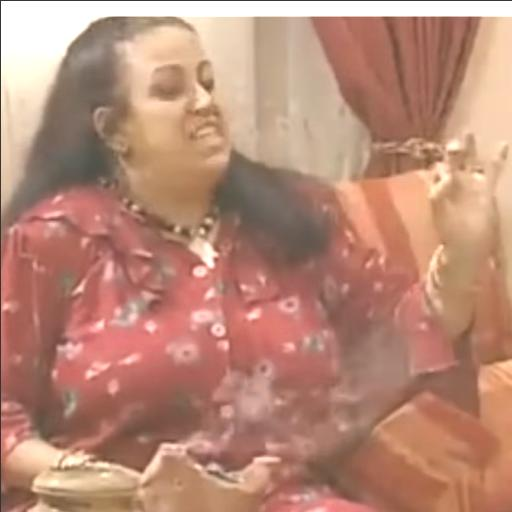jannet: (59, 18, 276, 224)
